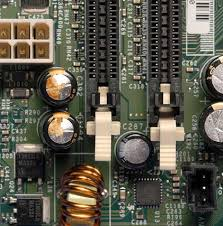capacitor: (31, 109, 88, 152), (111, 130, 160, 177), (33, 63, 80, 109)
